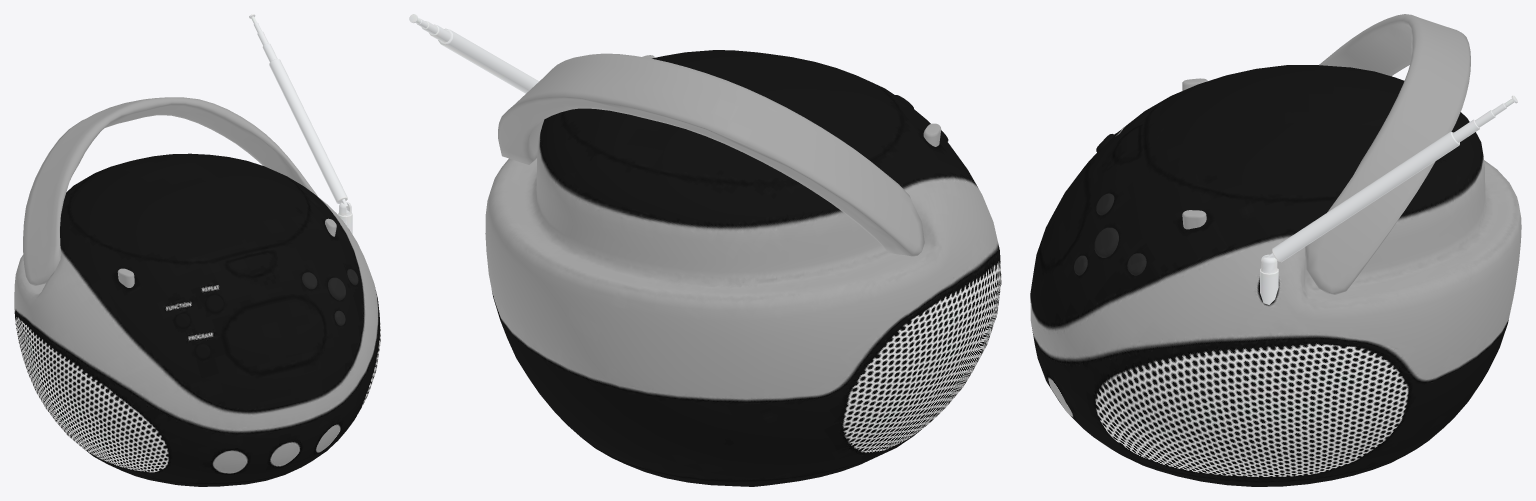
Rendered from boombox.glb.
3 renders of one model, left to right at view 1: azimuth 30°, elevation 25°; view 2: azimuth 150°, elevation 25°; view 3: azimuth 270°, elevation 25°, orthographic. The views are drawn at different scales.
Visible parts, largest first — view 1: BoomBox; view 2: BoomBox; view 3: BoomBox.
Part boxes in pixels (bbox=[...]): BoomBox: bbox=[14, 14, 380, 486]; BoomBox: bbox=[409, 14, 1001, 486]; BoomBox: bbox=[1030, 14, 1521, 486].
Size of the model in its own units: 0.0198 by 0.0195 by 0.0202.
Materials: 1 (1 with a texture image).
